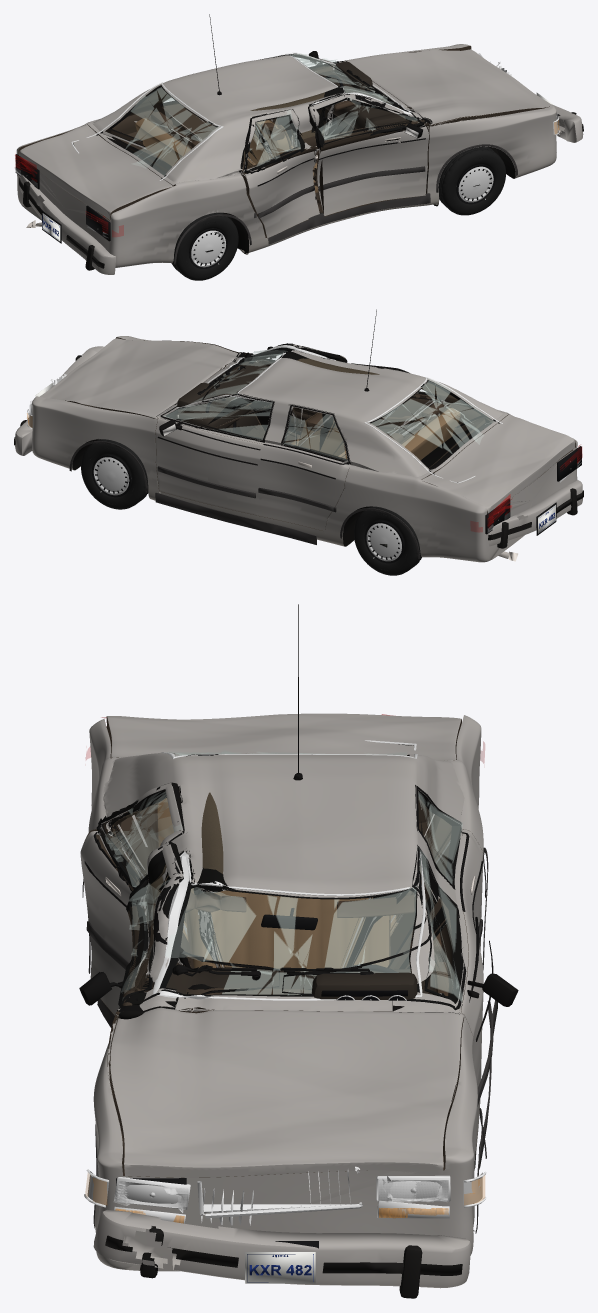
Rendered from sedan87_side_R_d1_lod1.glb.
3 views of the same model, one above another, from view 1: azimuth 30°, elevation 25°; view 2: azimuth 150°, elevation 25°; view 3: azimuth 270°, elevation 25° (orthographic). The views are drawn at different scales.
Visible parts, largest first — view 1: Body, Hood, Door_FR, Trunk, Interior, Glass, Door_RR, Wheel_FR_mesh, Wheel_RR_mesh, Trim, Bumper_R, Glass_RR (+7 smaller); view 2: Body, Hood, Door_FL, Trunk, Interior, Door_RL, Glass, Wheel_FL_mesh, Wheel_RL_mesh, Trim, Bumper_R, Glass_FL (+9 smaller); view 3: Body, Hood, Interior, Glass, Bumper_F, Trunk, Ends, Door_RR, Door_FL, Door_FR, Trim_FL, Glass_RR (+10 smaller).
Boxes of the visible parts, <box> form: Body: <box>16,44,556,267</box>; Hood: <box>344,49,552,125</box>; Door_FR: <box>308,94,429,216</box>; Trunk: <box>19,124,172,220</box>; Interior: <box>135,61,409,192</box>; Glass: <box>71,52,411,180</box>; Door_RR: <box>241,109,319,238</box>; Wheel_FR_mesh: <box>438,146,505,215</box>; Wheel_RR_mesh: <box>171,212,238,280</box>; Trim: <box>174,14,517,264</box>; Bumper_R: <box>19,174,115,274</box>; Glass_RR: <box>245,110,304,171</box>; Body: <box>32,336,577,562</box>; Hood: <box>40,338,241,418</box>; Door_FL: <box>155,394,274,515</box>; Trunk: <box>422,414,575,513</box>; Interior: <box>175,361,460,460</box>; Door_RL: <box>257,404,352,531</box>; Glass: <box>176,345,502,483</box>; Wheel_FL_mesh: <box>81,439,148,509</box>; Wheel_RL_mesh: <box>354,506,421,575</box>; Trim: <box>69,309,420,558</box>; Bumper_R: <box>488,480,583,548</box>; Glass_FL: <box>163,393,274,439</box>; Body: <box>88,715,483,1271</box>; Hood: <box>109,1007,463,1177</box>; Interior: <box>152,791,434,1002</box>; Glass: <box>153,740,425,1000</box>; Bumper_F: <box>93,1209,470,1298</box>; Trunk: <box>106,713,461,760</box>; Ends: <box>84,727,486,1283</box>; Door_RR: <box>80,782,184,1015</box>; Door_FL: <box>393,845,483,1143</box>; Door_FR: <box>119,841,183,1012</box>; Trim_FL: <box>282,846,518,1106</box>; Glass_RR: <box>98,783,182,888</box>.
Size of the model in its own units: 4.93 by 2.1 by 1.9.
Materials: 33 (5 with a texture image).
